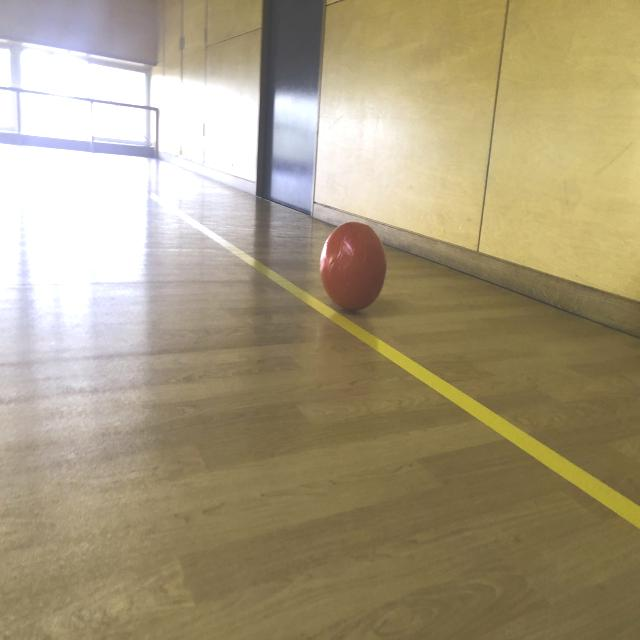red_ball: (321, 220, 386, 314)
